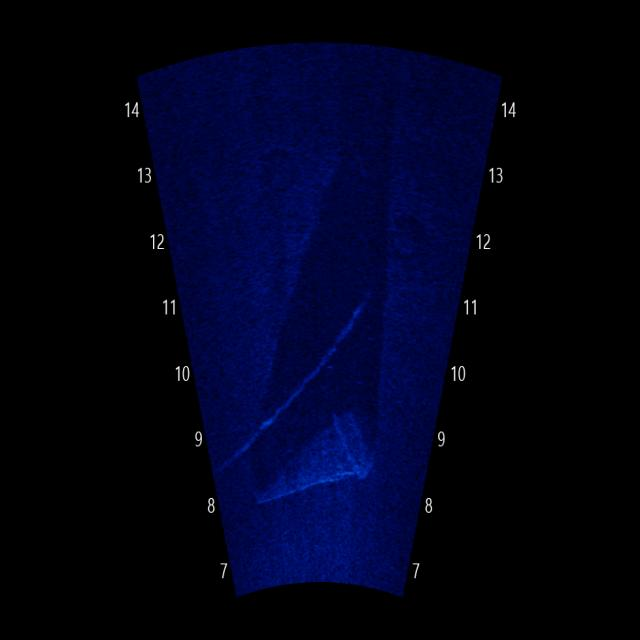triangle: (240, 408, 386, 512)
